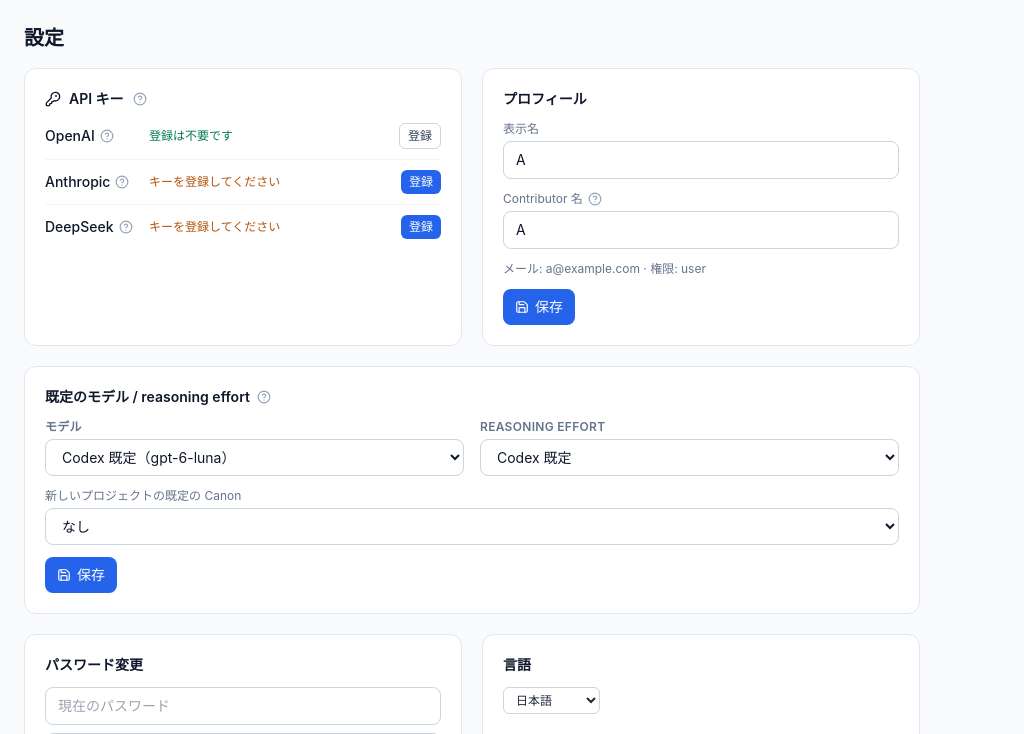
Test: the API key rows of the settings page › tells an approved user without a key that none is needed, with the input folded away
Expected: the text "登録は不要です" is shown, x1=149 y1=128 x2=233 y2=143
Click the button "登録" in the row of "登録は不要です" at [420, 136], box x1=399 y1=123 x2=441 y2=149
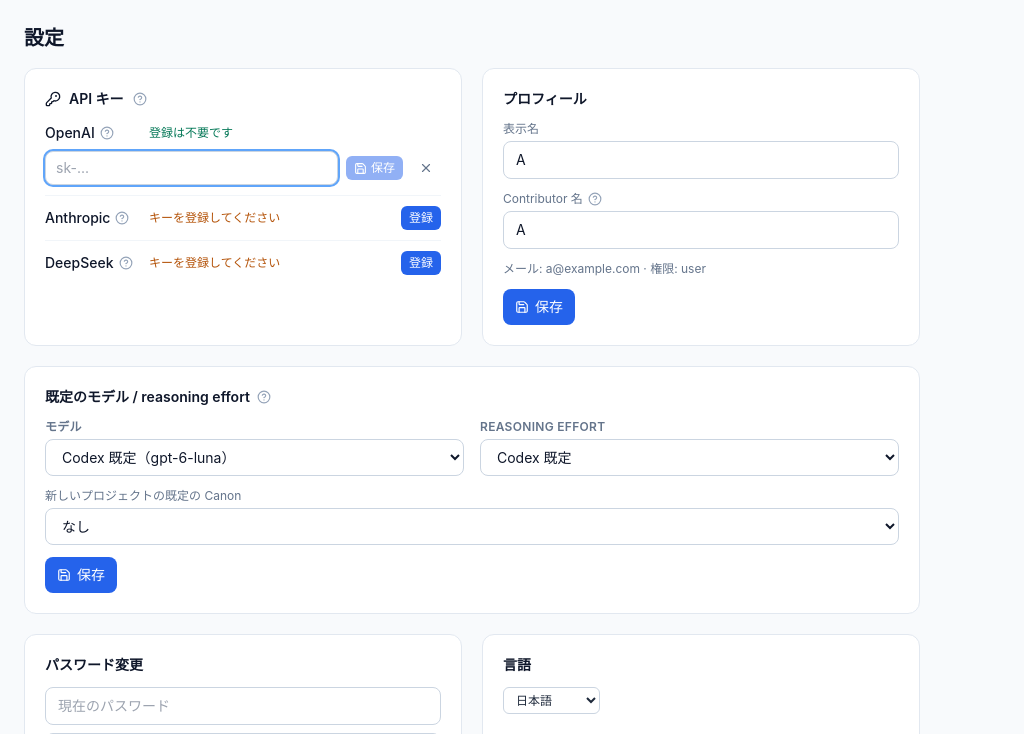
Result: the password field with placeholder "sk-..." is shown at x1=45 y1=151 x2=338 y2=185
